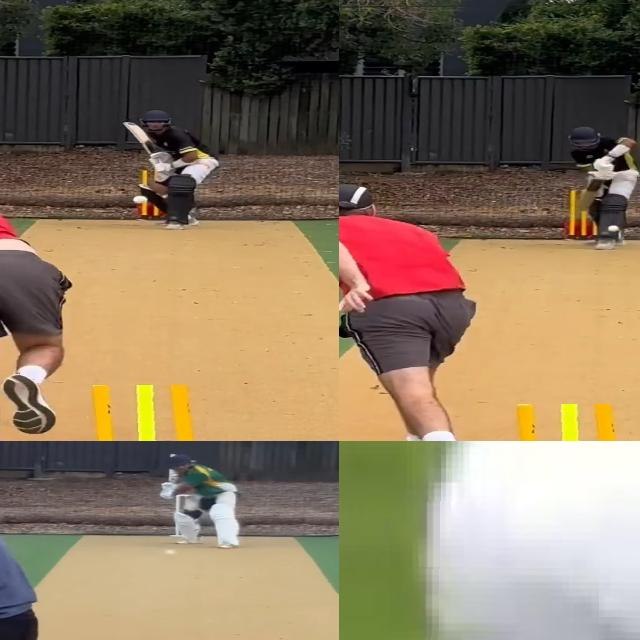Cricket ball: (426, 441, 640, 640), (132, 195, 150, 205), (605, 223, 621, 233), (162, 547, 178, 557)
Stumps: (68, 385, 205, 441)
